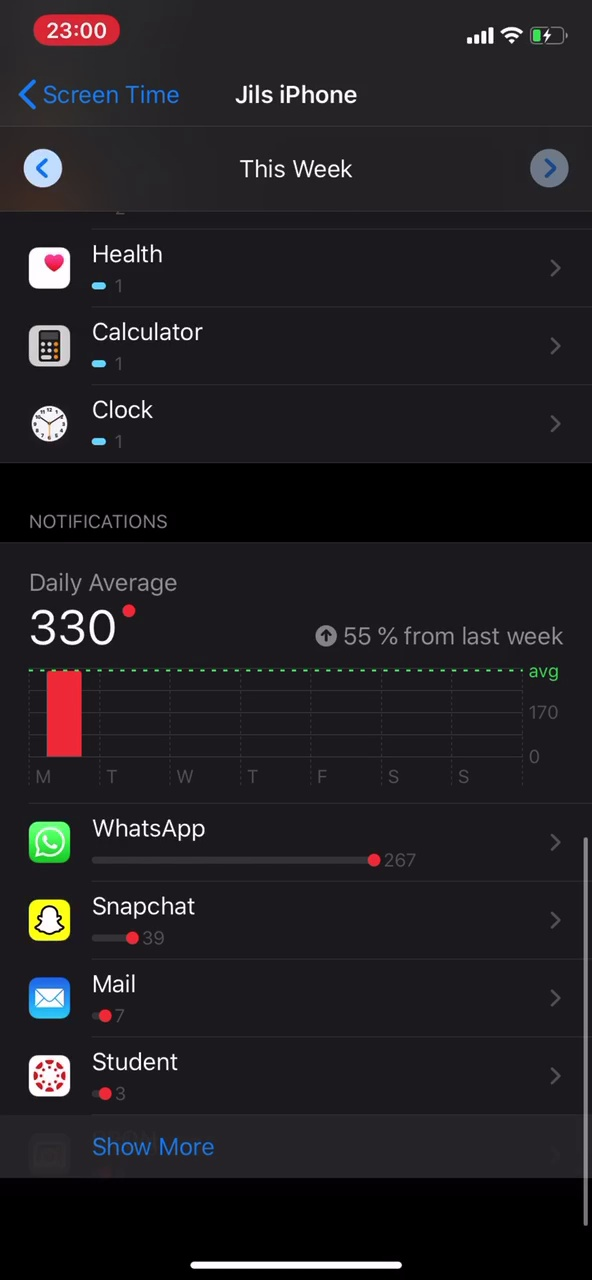not_app: (17, 802, 464, 883), (14, 885, 241, 958), (14, 964, 219, 1038), (11, 1044, 211, 1111)
not_over: (23, 502, 209, 658)
pick_app: (20, 310, 225, 385), (20, 230, 200, 301), (25, 389, 178, 458)
week: (231, 152, 360, 187)
